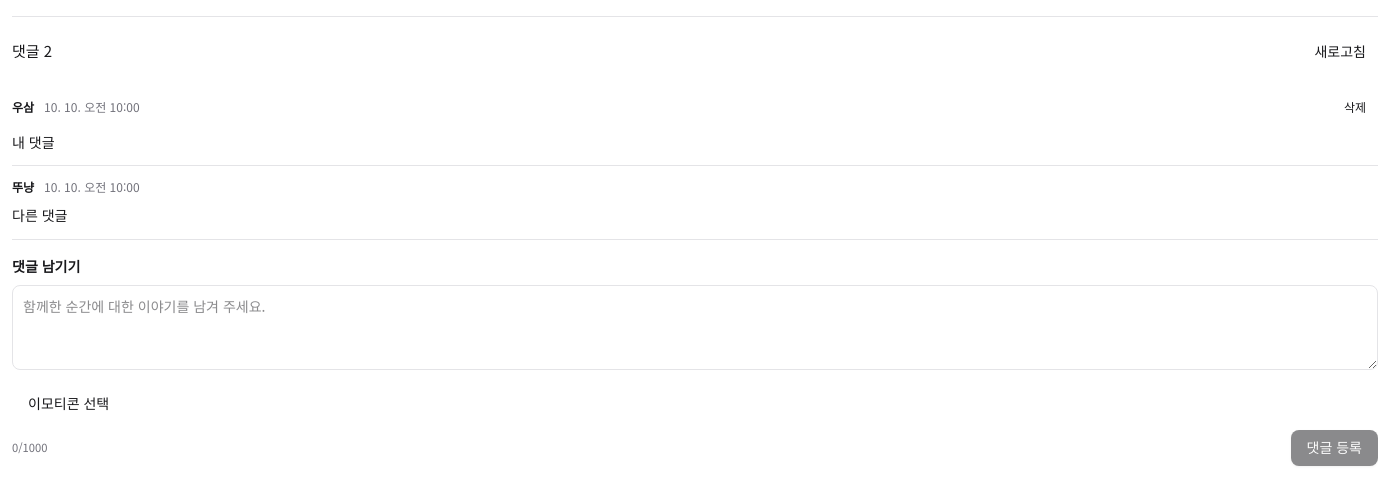
Scenario: offers deletion only for the author's own comments and removes one after confirmation
What coordinates should you click on to do the following:
click the button with aria-label "우삼님의 댓글 삭제"
I would click on:
 (1355, 107)
Its box is 1332,91 -> 1378,123.
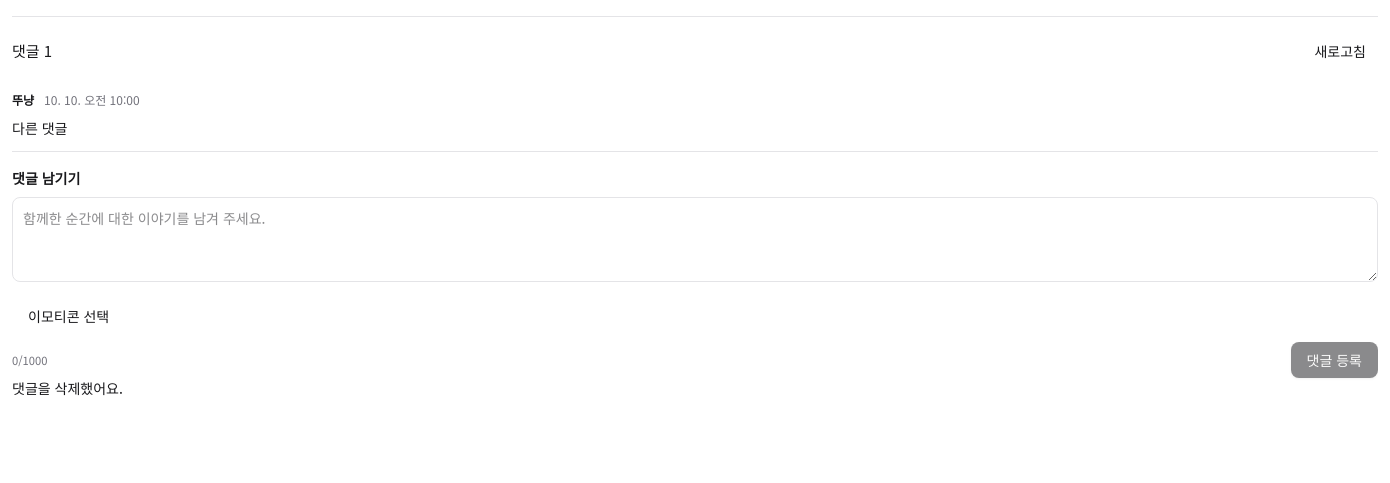
expect the text "다른 댓글" is shown: met, box 12,118 -> 68,138
expect the text "내 댓글" is gone: met
